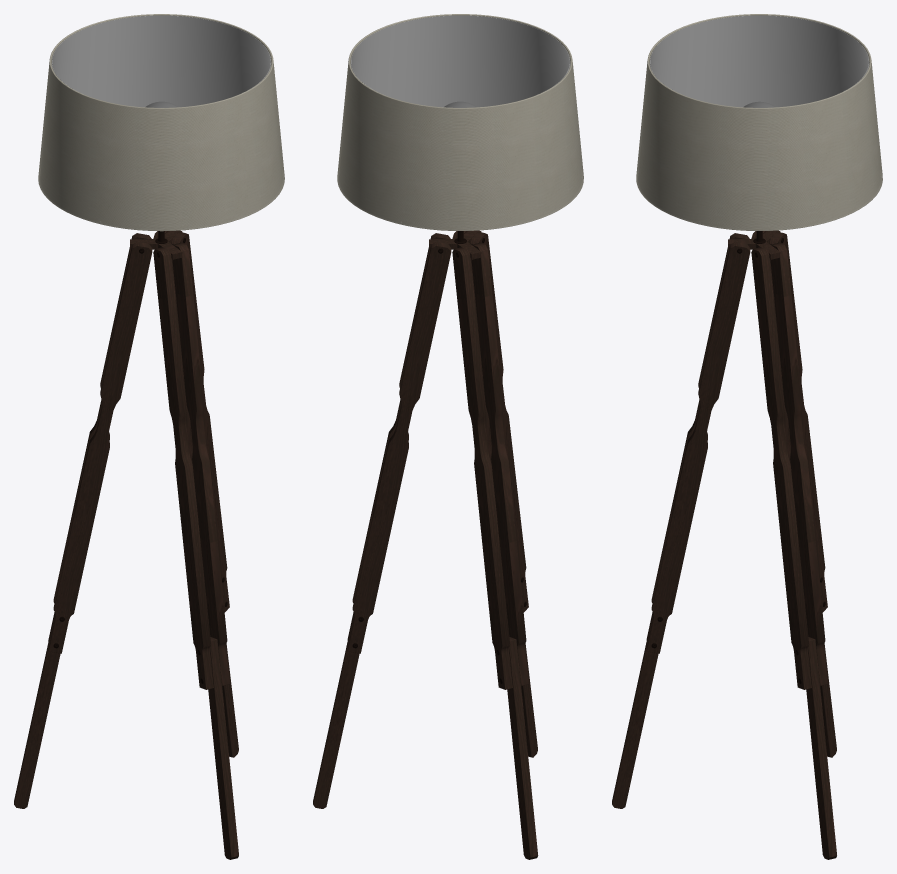
File: Tref014.FBX
The picture shows the model from 3 angles, left to right: view 1: azimuth 30°, elevation 25°; view 2: azimuth 150°, elevation 25°; view 3: azimuth 270°, elevation 25°; orthographic projection.
Visible parts, largest first — view 1: Tref014_TripodLegs, Tref014_LampShade, Tref014_LampShadeInterior; view 2: Tref014_TripodLegs, Tref014_LampShade, Tref014_LampShadeInterior; view 3: Tref014_TripodLegs, Tref014_LampShade, Tref014_LampShadeInterior.
Part boxes in pixels (x1,y1,x2,y2): Tref014_TripodLegs: [14, 231, 238, 859]; Tref014_LampShade: [38, 14, 284, 231]; Tref014_LampShadeInterior: [51, 15, 271, 107]; Tref014_TripodLegs: [313, 231, 538, 859]; Tref014_LampShade: [337, 14, 583, 230]; Tref014_LampShadeInterior: [350, 15, 570, 107]; Tref014_TripodLegs: [612, 231, 836, 859]; Tref014_LampShade: [636, 14, 882, 230]; Tref014_LampShadeInterior: [649, 15, 869, 107].
Bounding box in the file's own units: 0.5681 × 0.5923 × 1.8.
